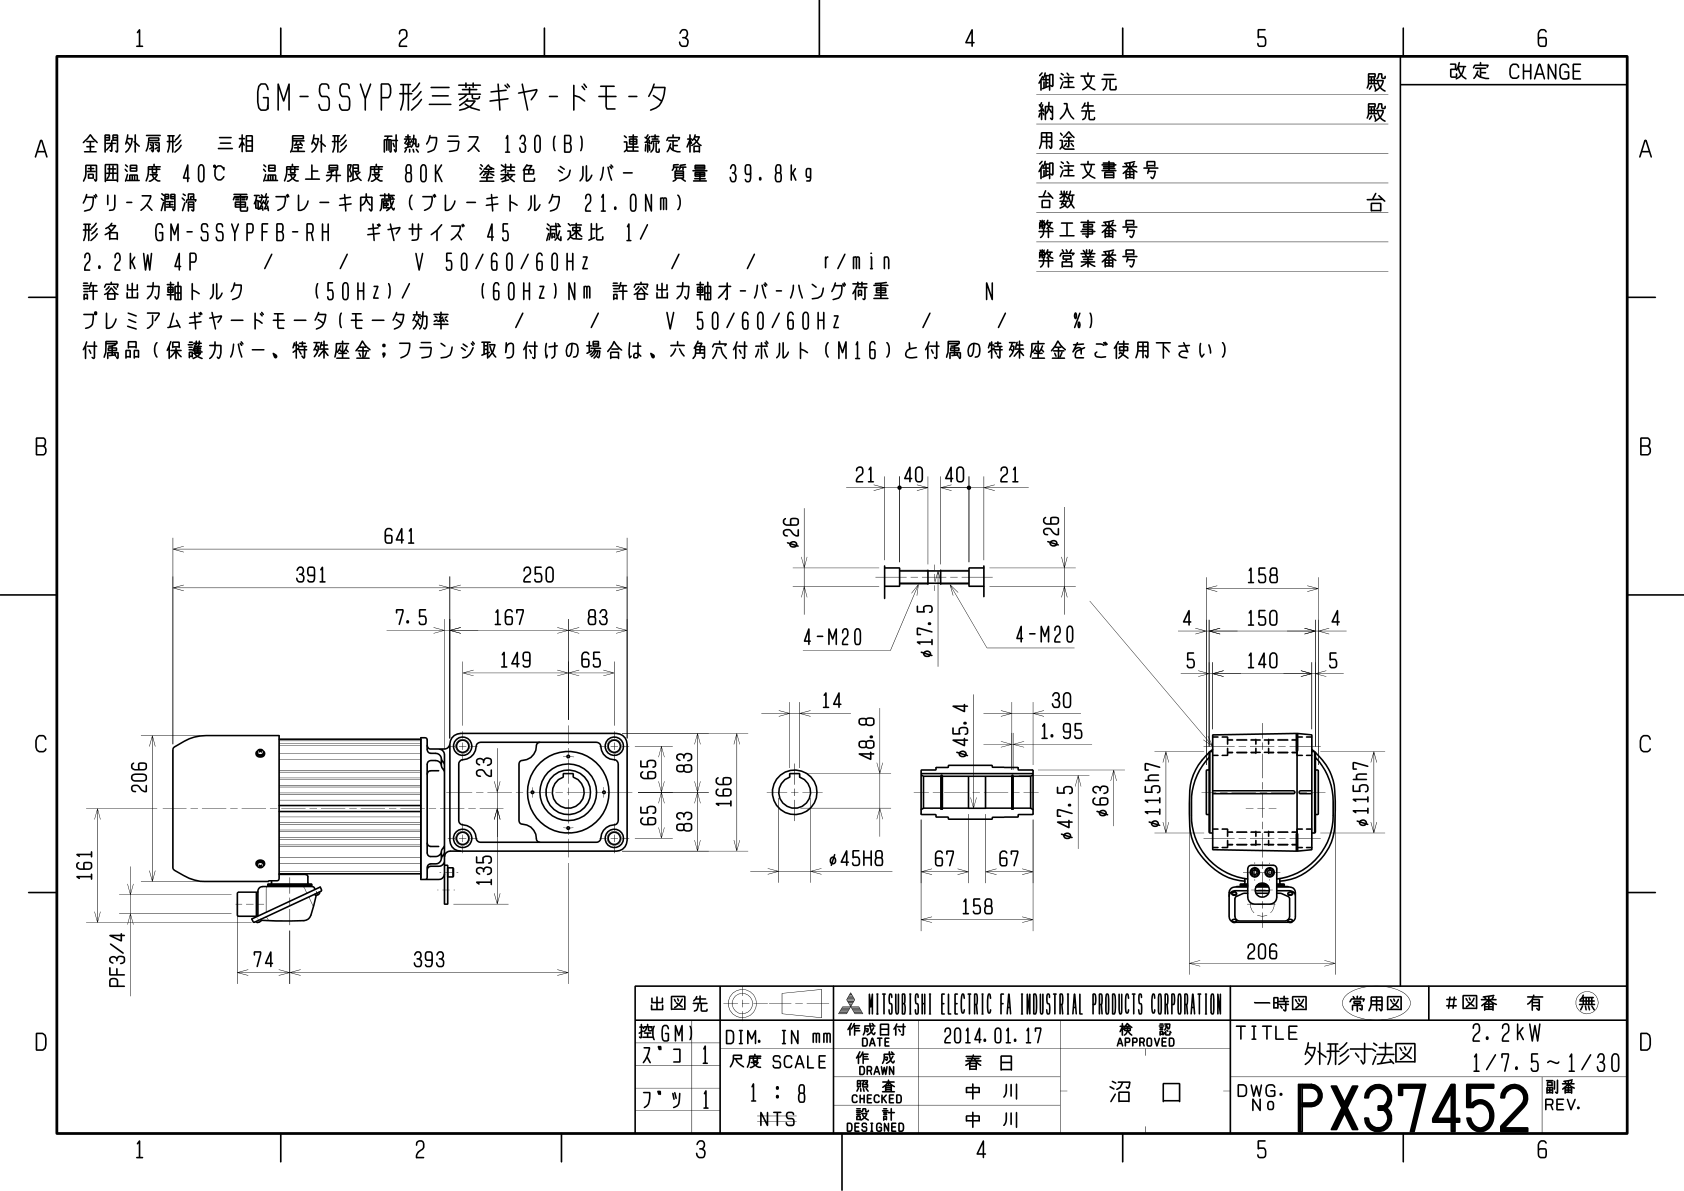GM_SSYP_屋外_三相: (63, 431, 1397, 973)
